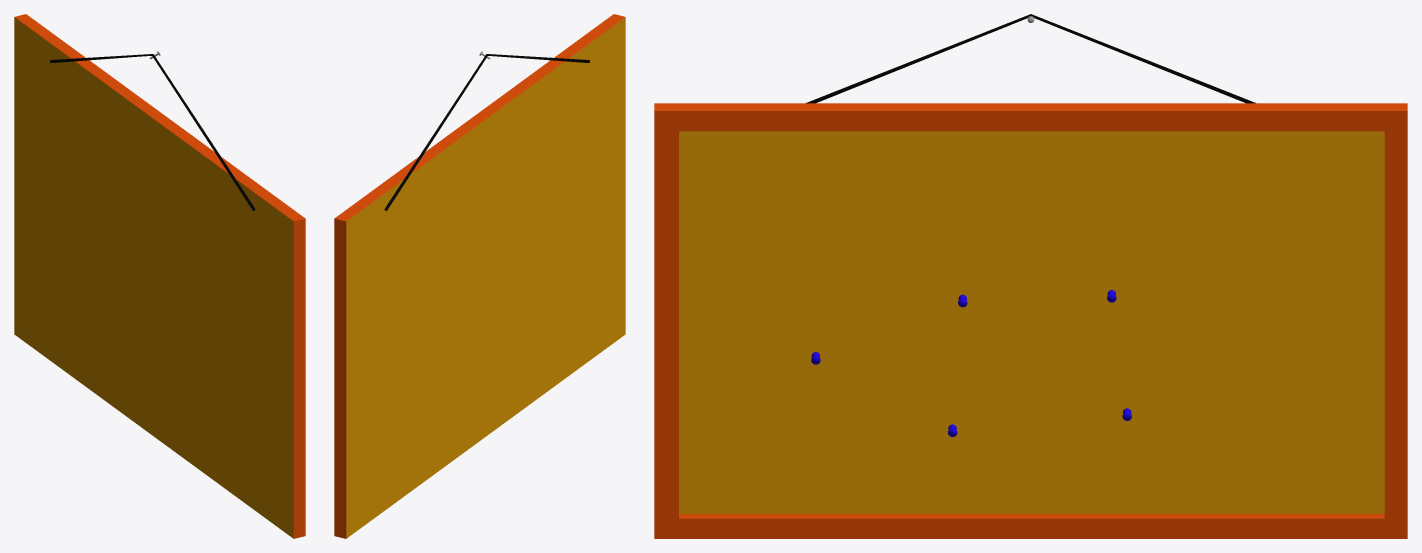
The model's file is Notice Board.fbx.
3 renders of one model, left to right at view 1: azimuth 30°, elevation 25°; view 2: azimuth 150°, elevation 25°; view 3: azimuth 270°, elevation 25°, orthographic. The views are drawn at different scales.
Visible parts, largest first — view 1: Board, Rope; view 2: Board, Rope; view 3: Board, Rope.
Part boxes in pixels (x1,y1,x2,y2): Board: [14, 14, 305, 538]; Rope: [50, 54, 255, 210]; Board: [334, 14, 625, 538]; Rope: [384, 54, 589, 210]; Board: [654, 103, 1407, 538]; Rope: [806, 14, 1255, 103].
Bounding box in the file's own units: 4.56 × 91.29 × 120.
